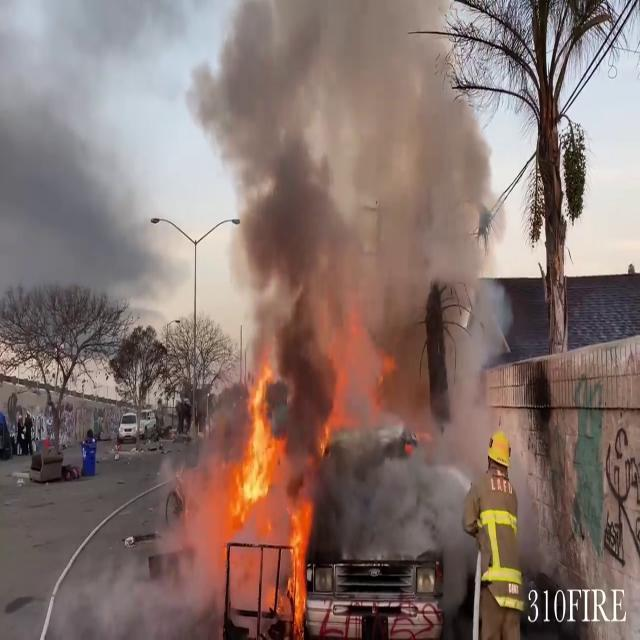Fire: (178, 366, 316, 632)
